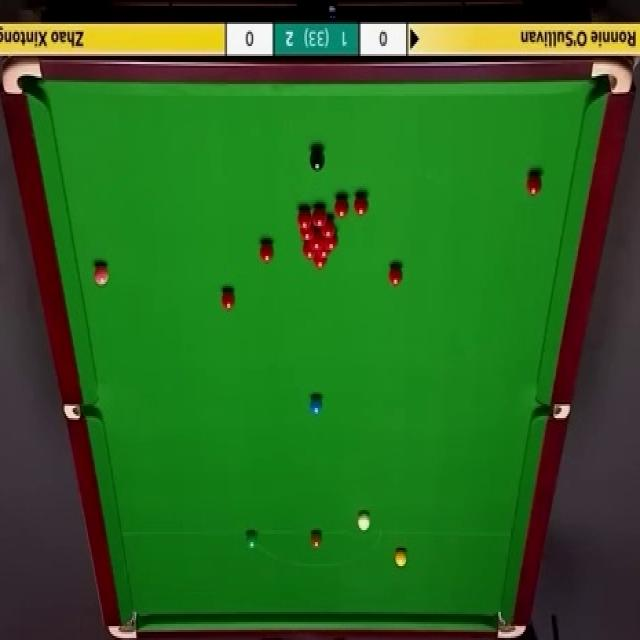black-ball: (309, 147, 325, 173)
blue-ball: (310, 398, 323, 416)
brown-ball: (310, 531, 323, 548)
green-ball: (244, 528, 258, 552)
pink-ball: (93, 263, 110, 287)
red-ball: (524, 172, 543, 197), (259, 238, 275, 264), (354, 193, 368, 220), (388, 262, 402, 287), (336, 193, 350, 218), (311, 207, 326, 228), (308, 229, 322, 251), (322, 217, 335, 240), (222, 288, 235, 311), (298, 208, 312, 228), (323, 233, 339, 250), (303, 241, 317, 260), (299, 224, 314, 240), (316, 248, 332, 260), (312, 259, 327, 271)
white-ball: (358, 512, 371, 532)
yellow-ball: (393, 548, 408, 568)
